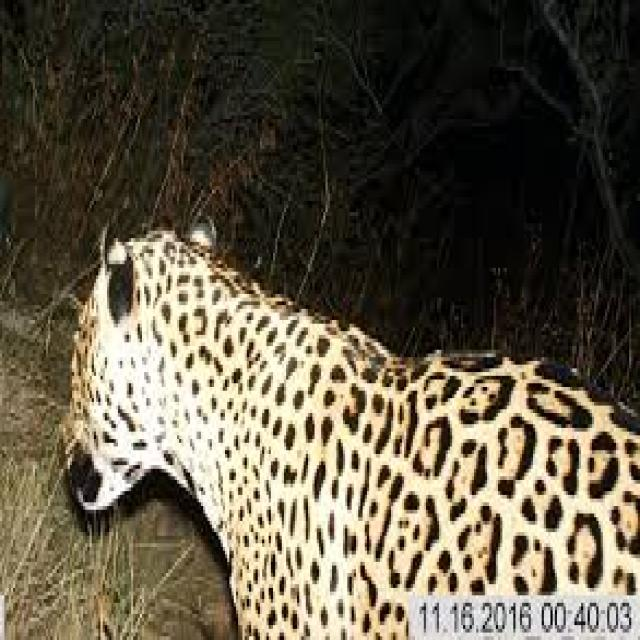Jaguar: (48, 186, 640, 640)
